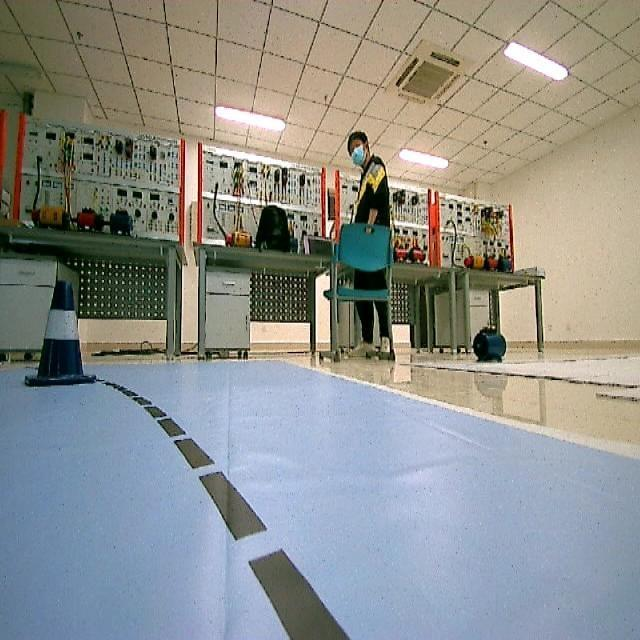obstacle: (15, 270, 101, 392)
